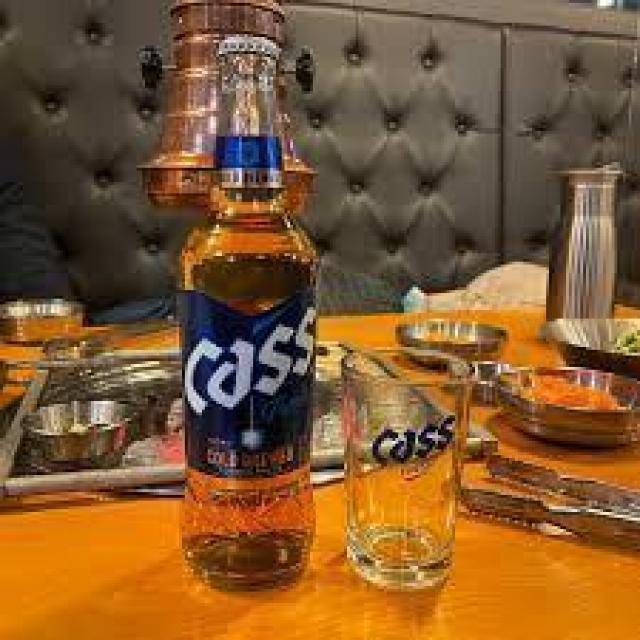beer-bottle: (172, 32, 323, 584)
